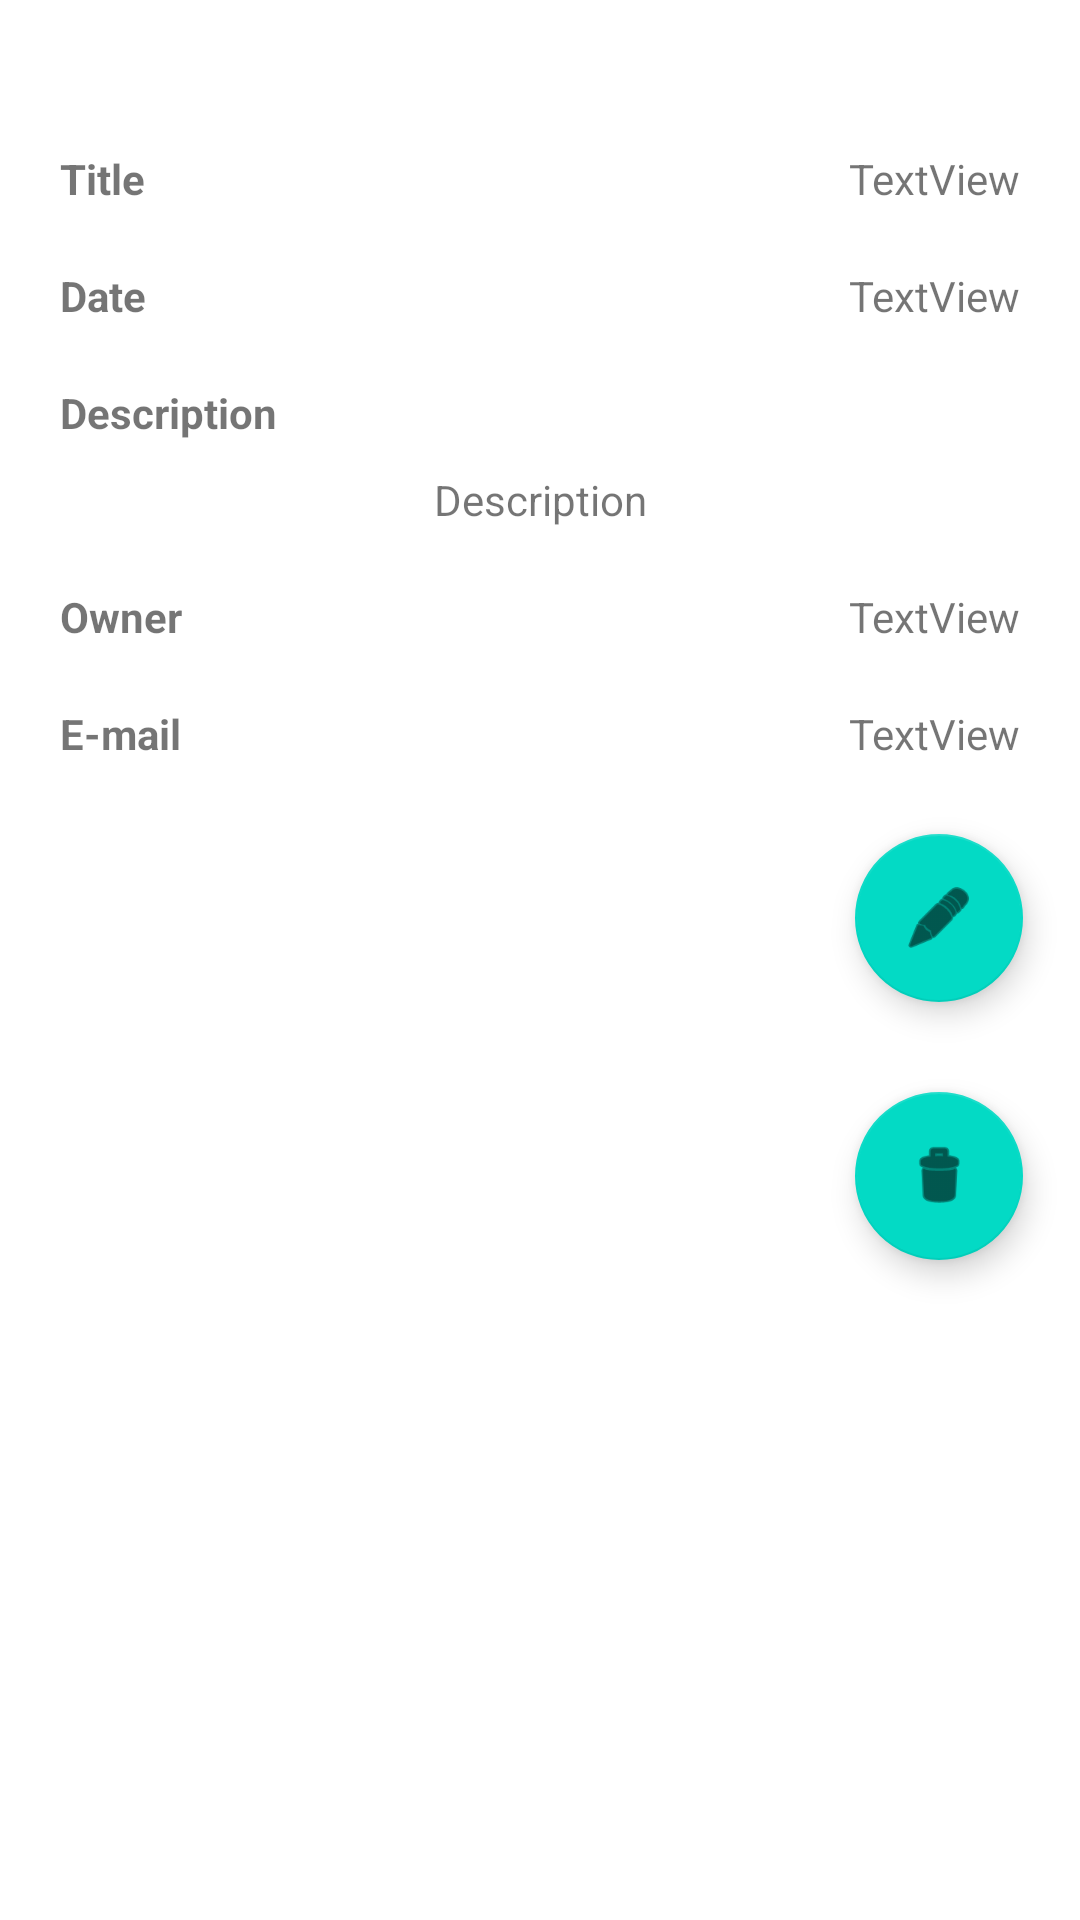

Point at icon controls on the screen. Image size 1080x1920, points as point (x, y).
delete: point (939, 1176)
edit: point (939, 918)
